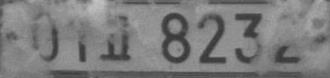0: (31, 10, 58, 62)
1: (67, 11, 93, 63)
2: (197, 11, 226, 63), (273, 13, 302, 63)
3: (233, 12, 264, 63)
8: (160, 11, 191, 64)
고: (99, 14, 131, 60)
